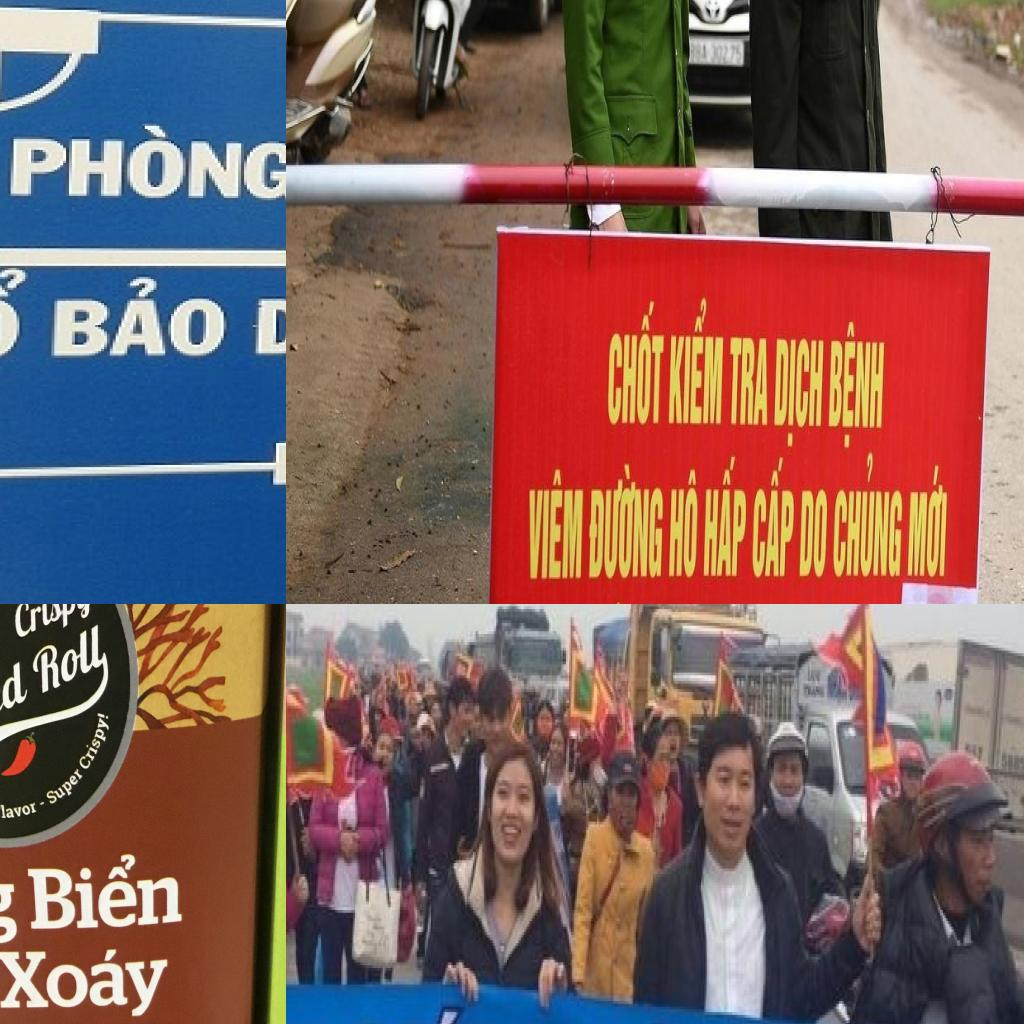text: (10, 123, 286, 202), (48, 277, 232, 360), (0, 945, 177, 1020), (26, 852, 184, 932), (832, 453, 905, 580), (588, 464, 664, 580), (606, 297, 670, 429), (668, 297, 726, 429), (828, 320, 886, 452), (528, 469, 584, 583), (30, 620, 109, 700), (704, 457, 750, 582), (774, 340, 824, 451), (752, 458, 796, 582), (906, 466, 950, 580), (727, 338, 768, 429), (668, 470, 700, 583), (13, 604, 94, 646), (0, 267, 34, 364), (798, 490, 829, 582), (78, 709, 114, 775), (44, 766, 86, 810), (690, 42, 743, 64), (0, 799, 39, 821)
